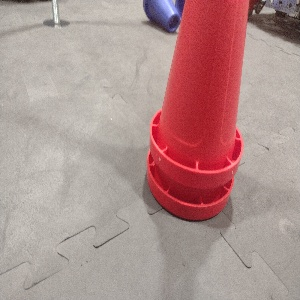Blue_1: (143, 0, 179, 32)
Red_2: (146, 0, 251, 221)
